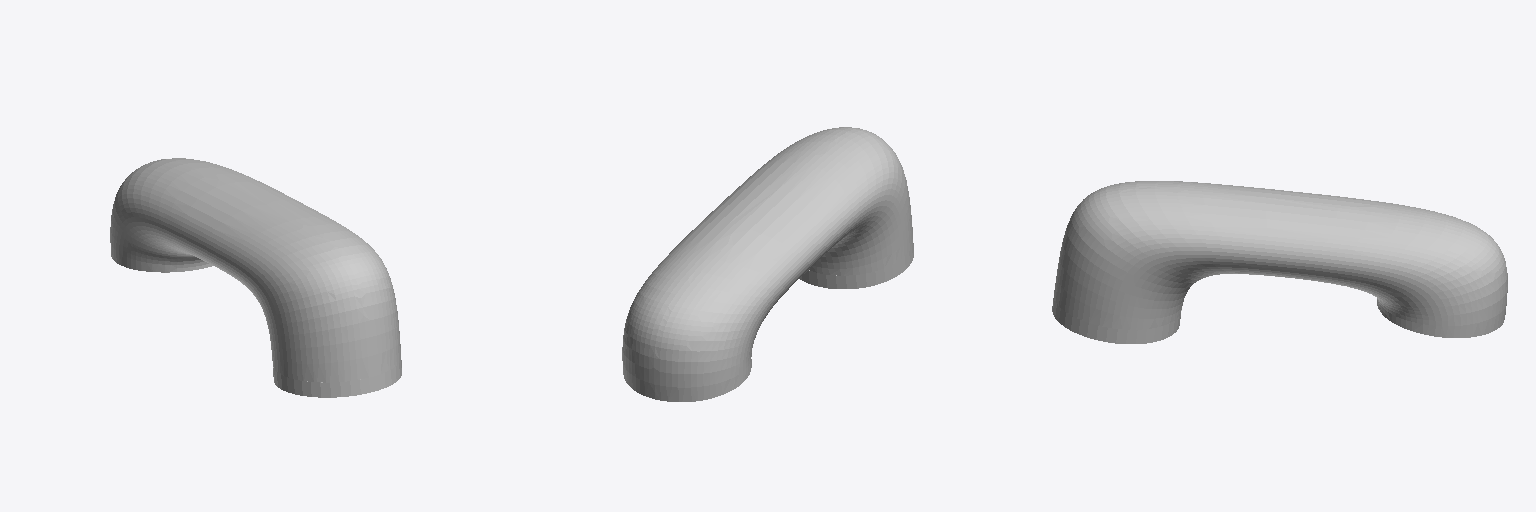
3 renders of one model, left to right at view 1: azimuth 30°, elevation 25°; view 2: azimuth 150°, elevation 25°; view 3: azimuth 270°, elevation 25°, orthographic.
Parts seen in each view (by area): view 1: link2; view 2: link2; view 3: link2.
Boxes of the visible parts, x1=… form: link2: x1=110, y1=158, x2=401, y2=397; link2: x1=622, y1=127, x2=913, y2=401; link2: x1=1052, y1=181, x2=1507, y2=343.
Bounding box in the file's own units: 0.08 × 0.0921 × 0.2831.